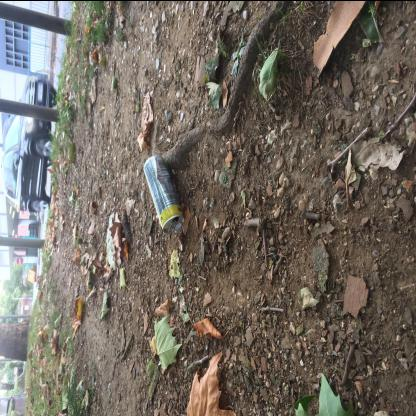metal: (142, 154, 185, 233)
